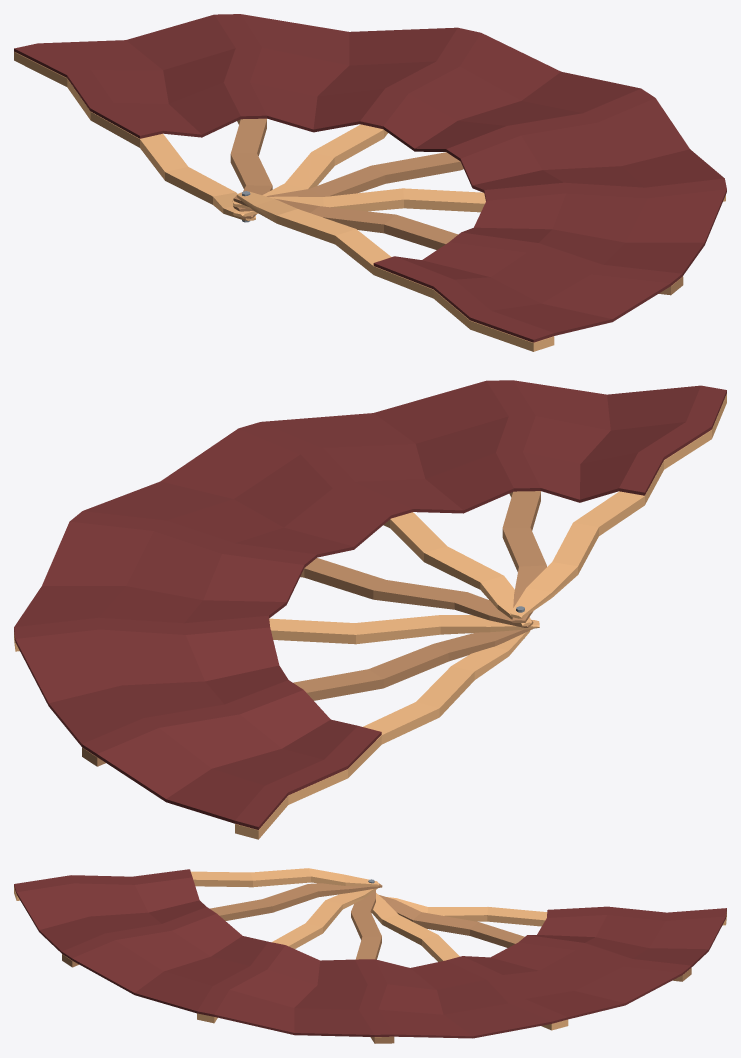
File: eventail.fbx
3 views of the same model, one above another, from view 1: azimuth 30°, elevation 25°; view 2: azimuth 150°, elevation 25°; view 3: azimuth 270°, elevation 25° (orthographic). The views are drawn at different scales.
Visible parts, largest first — view 1: Eventail; view 2: Eventail; view 3: Eventail.
Boxes of the visible parts, x1,y1,x2,y2 form: Eventail: (14,14,726,351); Eventail: (14,380,726,839); Eventail: (14,868,726,1043).
Bounding box in the file's own units: 28 × 3.96 × 54.56.
